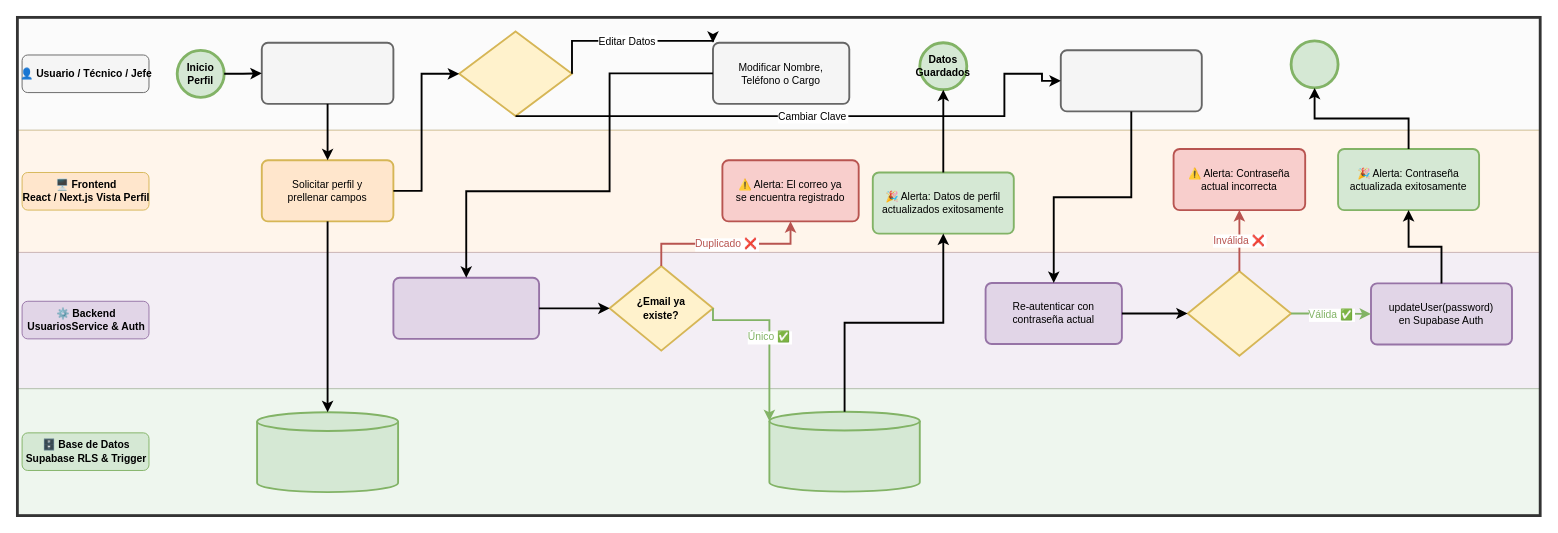
Some shapes in this 1558 by 533 pixel diagram are drawn without their labels. The centre of each missing label's shape, as x and y in pixels:
Clave Cambiada: the point at 1314,64
Ingresar a /dashboard/perfil: the point at 327,72
Modificar contraseña (actual, nueva y conf): the point at 1130,80
SELECT FROM perfiles (RLS user_id = auth.uid()): the point at 327,452
UPDATE public.perfiles Dispara trigger de historial: the point at 844,451
updateProfileData() Validar duplicidad email: the point at 466,307
¿Clave actual es válida?: the point at 1239,313
¿Qué desea actualizar?: the point at 515,73
